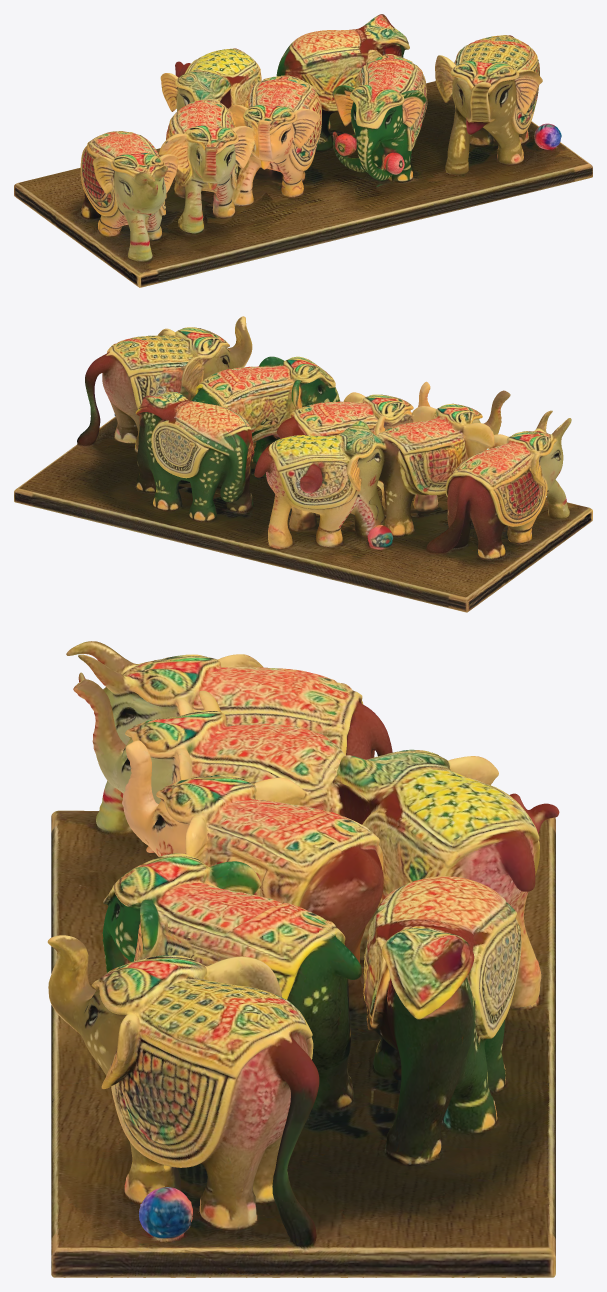
Rendered from elefantes-de-madeira.glb.
The picture shows the model from 3 angles, top to bottom: view 1: azimuth 30°, elevation 25°; view 2: azimuth 150°, elevation 25°; view 3: azimuth 270°, elevation 25°; orthographic projection. The views are drawn at different scales.
Bounding box in the file's own units: 1.9 × 0.4787 × 0.9265.
Materials: 1 (1 with a texture image).
